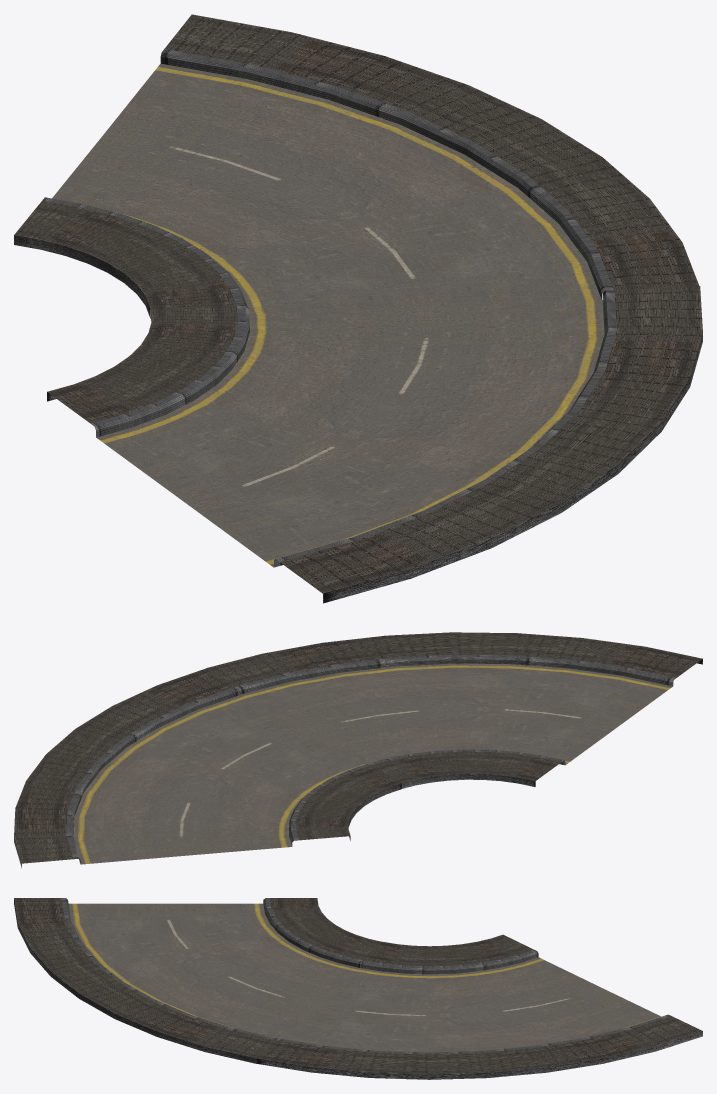
The model's file is 训练弯道 1.fbx.
3 renders of one model, top to bottom at view 1: azimuth 30°, elevation 25°; view 2: azimuth 150°, elevation 25°; view 3: azimuth 270°, elevation 25°, orthographic. The views are drawn at different scales.
Parts seen in each view (by area): view 1: polySurface64; view 2: polySurface64; view 3: polySurface64.
Part boxes in pixels (box(x1,y1,x2,y2)): polySurface64: box(14, 14, 702, 603); polySurface64: box(14, 632, 702, 868); polySurface64: box(14, 898, 702, 1079).
Bounding box in the file's own units: 26.76 × 0.3822 × 44.18.
